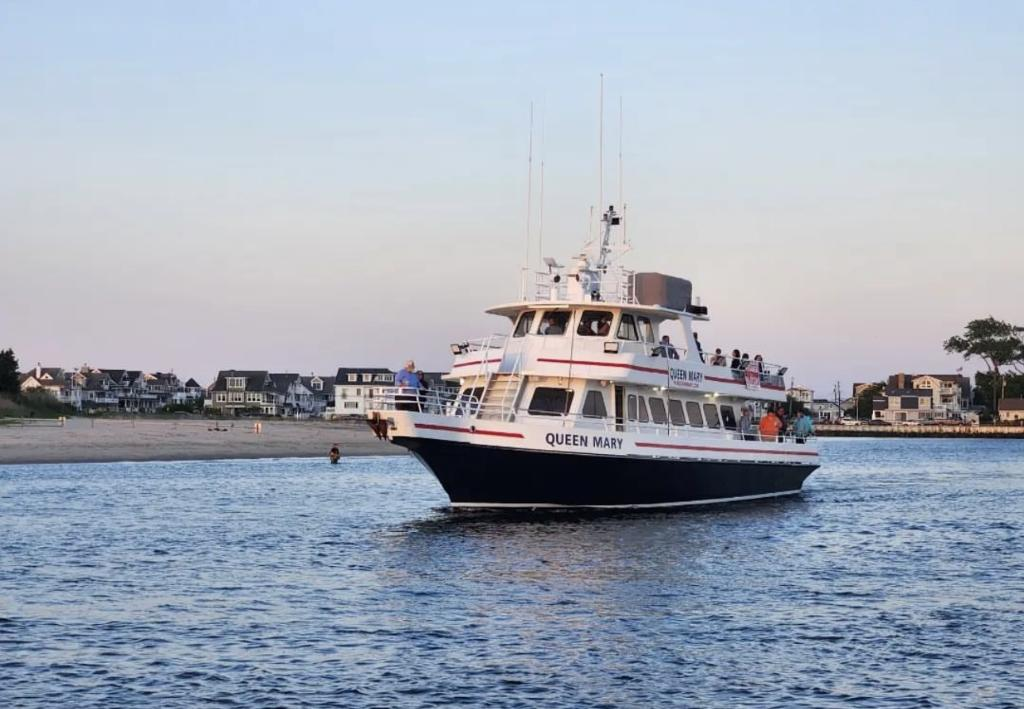PassengerShip: (362, 220, 846, 546)
